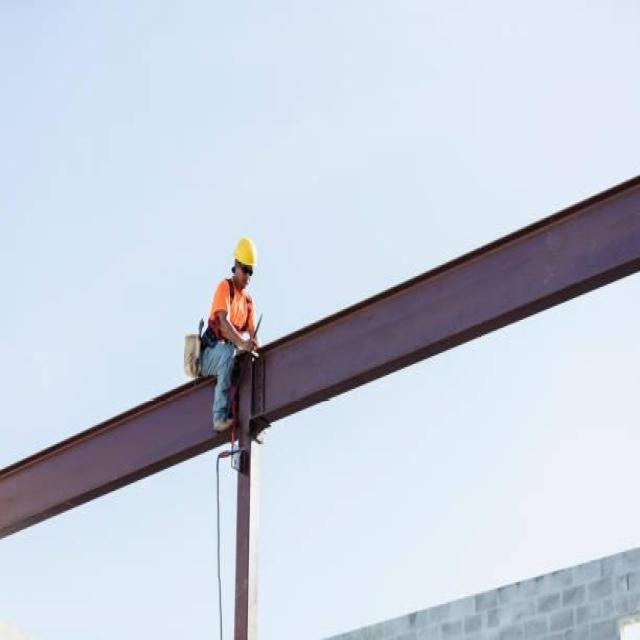Arnes_seguridad: (197, 276, 252, 353)
